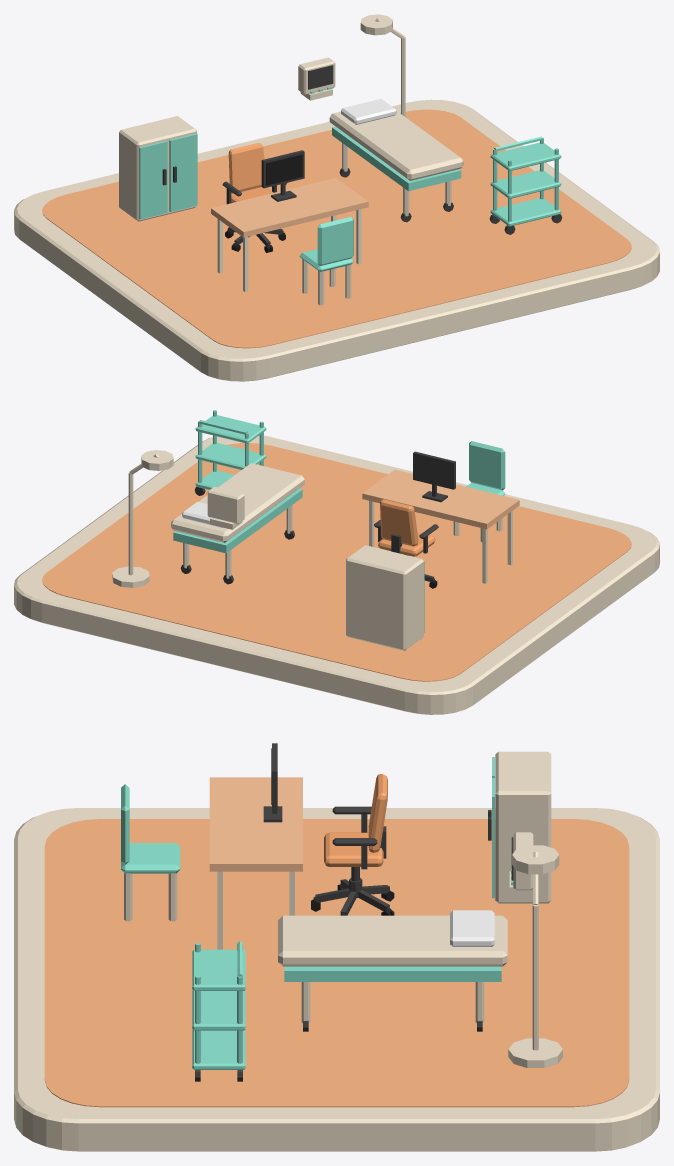
3 renders of one model, top to bottom at view 1: azimuth 30°, elevation 25°; view 2: azimuth 150°, elevation 25°; view 3: azimuth 270°, elevation 25°, orthographic. The views are drawn at different scales.
Visible parts, largest first — view 1: COM-02 Floor Surface, COM-01 Rounded Base Direct, Top, Mattress, Equipment case, COM-04_Chair_blender_direct, Door, Door.001, Backrest, Frame, Base, Tray.002 (+5 smaller); view 2: COM-02 Floor Surface, COM-01 Rounded Base Direct, Equipment case, Top, Mattress, COM-04_Chair_blender_direct, Backrest, Frame, Base, Housing, Tray.001, Tray.002 (+4 smaller); view 3: COM-02 Floor Surface, COM-01 Rounded Base Direct, Mattress, Top, Equipment case, COM-04_Chair_blender_direct, Base, Tray.002, Tray.001, Tray, Seat, Pillow (+6 smaller).
Boxes of the visible parts, x1,y1,x2,y2 form: COM-02 Floor Surface: [42, 109, 631, 348]; COM-01 Rounded Base Direct: [14, 99, 659, 381]; Top: [211, 178, 368, 291]; Mattress: [329, 111, 463, 180]; Equipment case: [119, 116, 196, 221]; COM-04_Chair_blender_direct: [222, 143, 286, 252]; Door: [139, 141, 167, 219]; Door.001: [169, 133, 197, 211]; Backrest: [317, 217, 353, 265]; Frame: [261, 150, 304, 201]; Base: [332, 126, 461, 191]; Tray.002: [490, 142, 561, 171]; COM-02 Floor Surface: [42, 443, 631, 681]; COM-01 Rounded Base Direct: [14, 435, 659, 714]; Equipment case: [346, 545, 423, 650]; Top: [362, 469, 519, 583]; Mattress: [171, 463, 304, 542]; COM-04_Chair_blender_direct: [374, 499, 438, 588]; Backrest: [469, 441, 505, 490]; Frame: [413, 451, 455, 502]; Base: [173, 488, 302, 553]; Housing: [207, 486, 244, 524]; Tray.001: [195, 443, 266, 469]; Tray.002: [195, 415, 266, 443]; COM-02 Floor Surface: [44, 819, 629, 1107]; COM-01 Rounded Base Direct: [14, 808, 659, 1151]; Mattress: [278, 915, 507, 966]; Top: [209, 777, 302, 949]; Equipment case: [495, 751, 551, 903]; COM-04_Chair_blender_direct: [311, 774, 394, 915]; Base: [284, 966, 501, 981]; Tray.002: [192, 949, 245, 990]; Tray.001: [192, 990, 245, 1030]; Tray: [192, 1030, 245, 1069]; Seat: [121, 843, 180, 873]; Pillow: [450, 910, 494, 946].
Bounding box in the file's own units: 6 × 1.96 × 5.2.
Materials: 1 (1 with a texture image).
